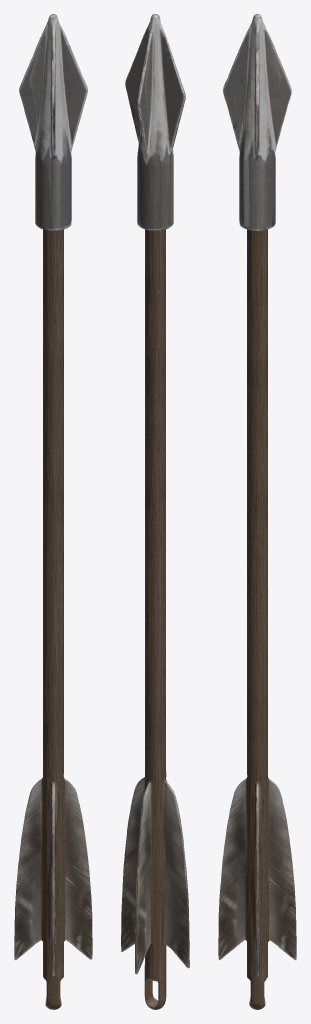
Rendered from Arrow.glb.
The picture shows the model from 3 angles, left to right: view 1: azimuth 90°, elevation 25°; view 2: azimuth 150°, elevation 25°; view 3: azimuth 270°, elevation 25°; orthographic projection.
Bounding box in the file's own units: 0.1357 × 1.9 × 0.1354.
1 material, 1 textured.
